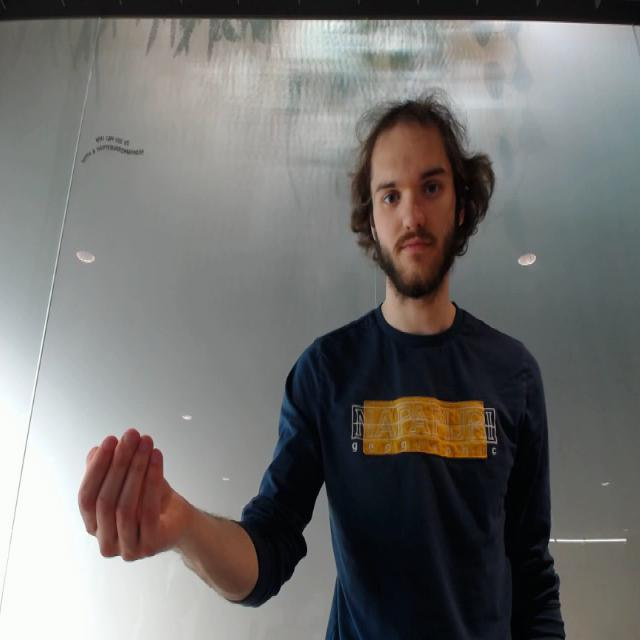forward: (71, 401, 193, 569)
